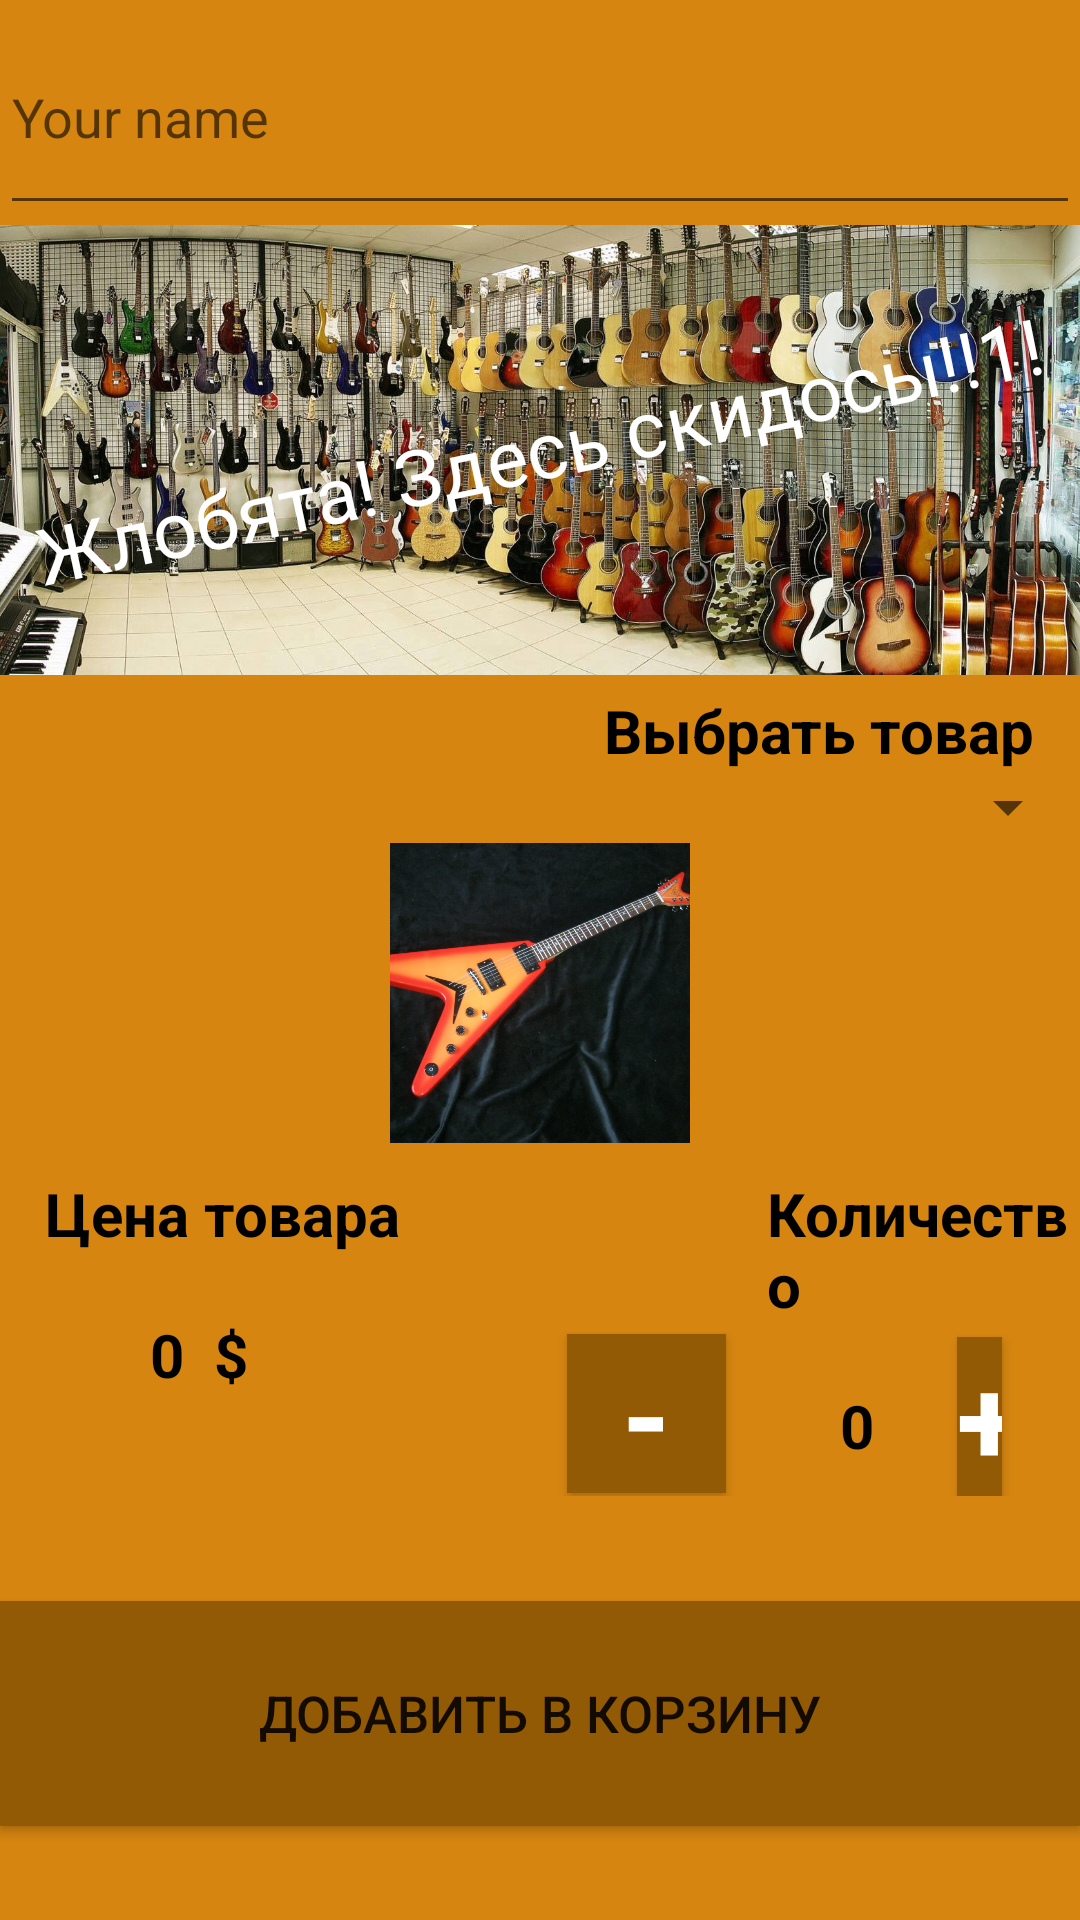

Point at icon controls on the screen. Image size 1080px×1920px, points as [x,y].
guitar: [540,993]
